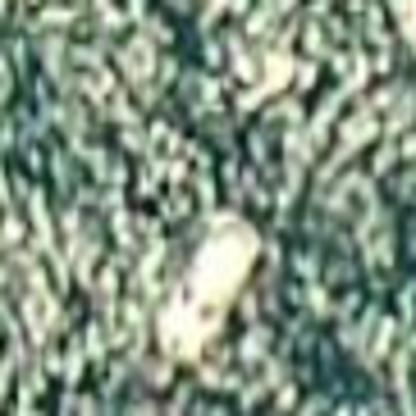ship: (128, 200, 268, 362)
